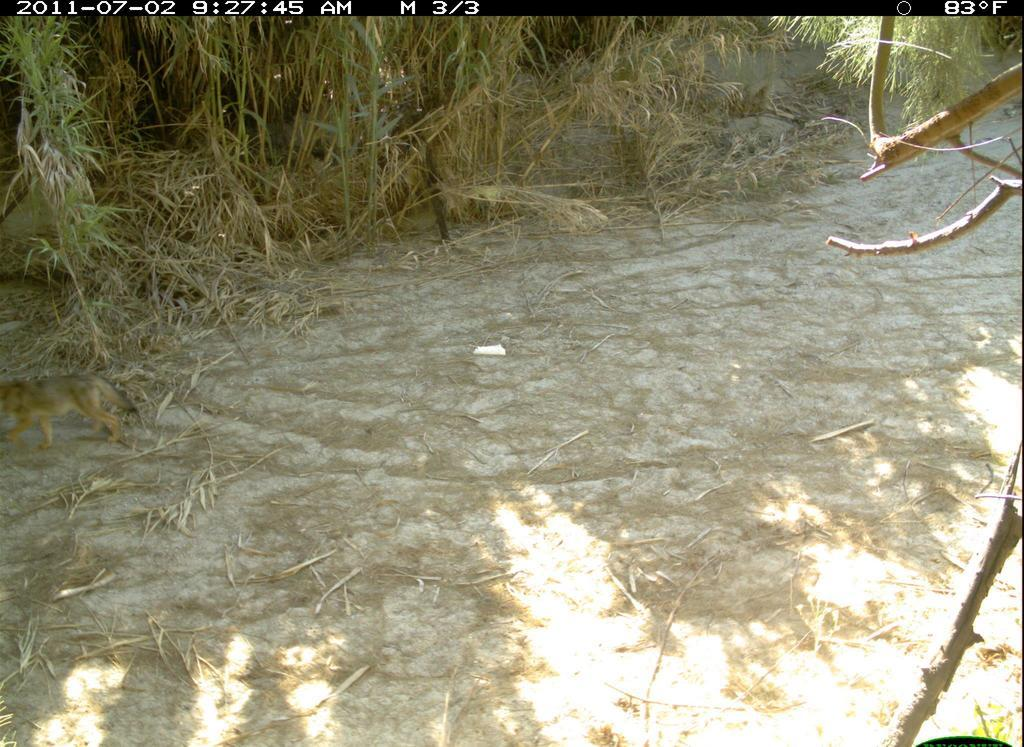coyote: (1, 367, 150, 458)
